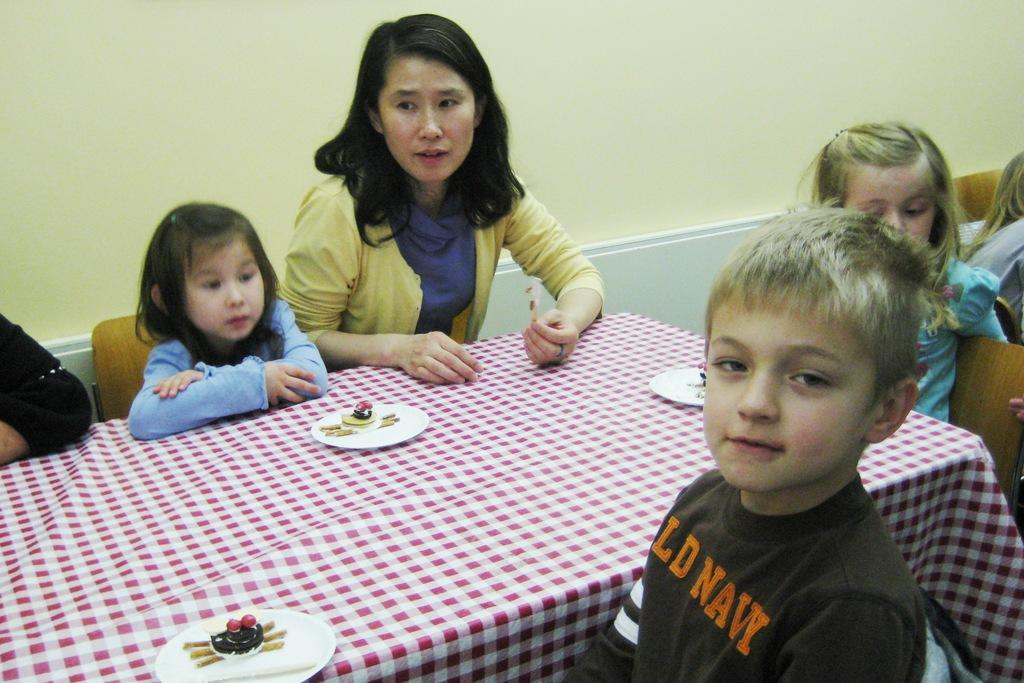Sem Máscara: (703, 302, 871, 486), (379, 53, 473, 175), (182, 242, 260, 337), (840, 158, 932, 238)
